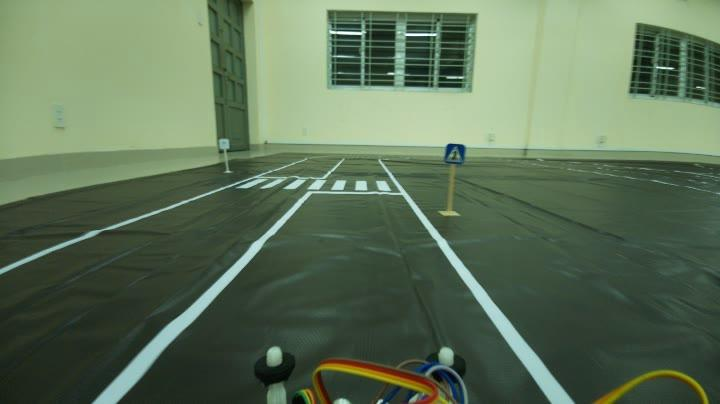crosswalk: (438, 138, 474, 168)
